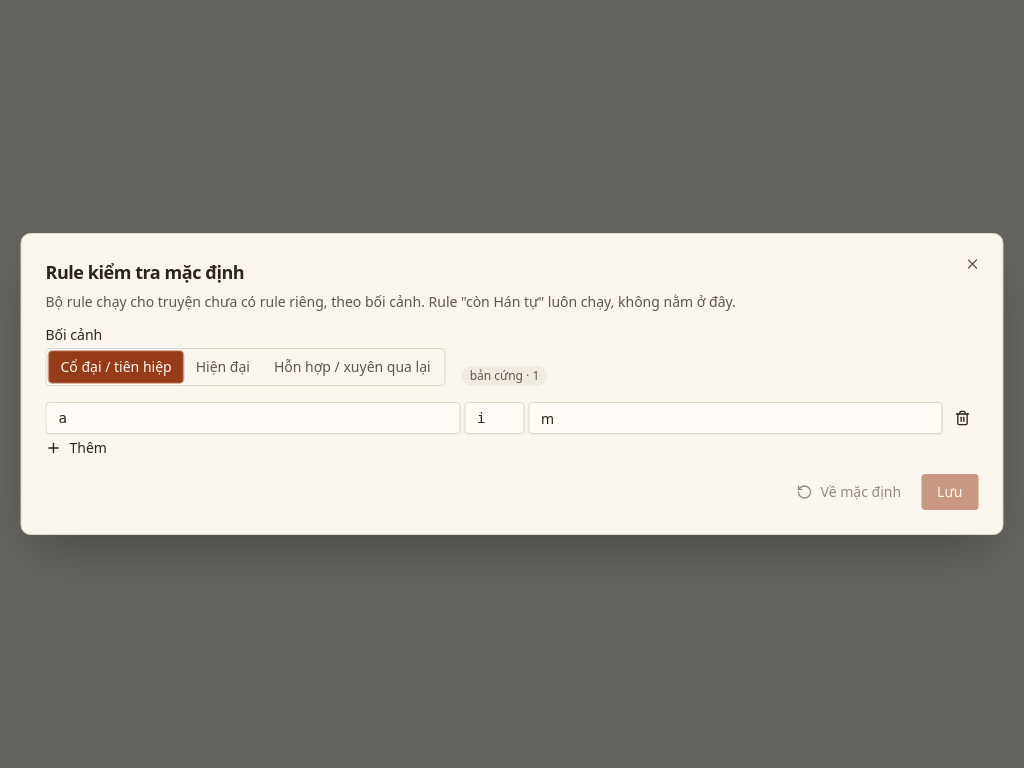
Test: BaseRulesDialog › nạp bộ cổ đại, sửa dòng và Lưu gửi rules đã chuẩn hoá (flags trống → bỏ), bump version
Expected: the button "Lưu" is disabled, [921, 474, 978, 510]
Type "!" into the field named "Mô tả rule 1" at (735, 418), box [528, 402, 942, 434]
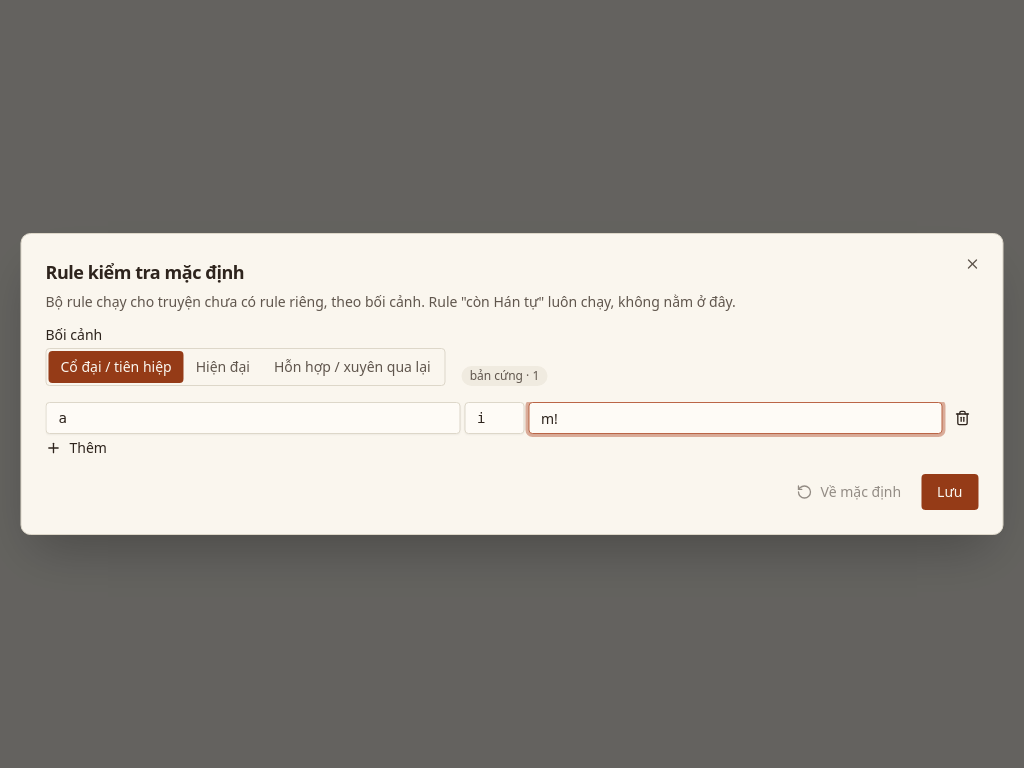
Click the button "Thêm" at (76, 448), box [46, 438, 107, 458]
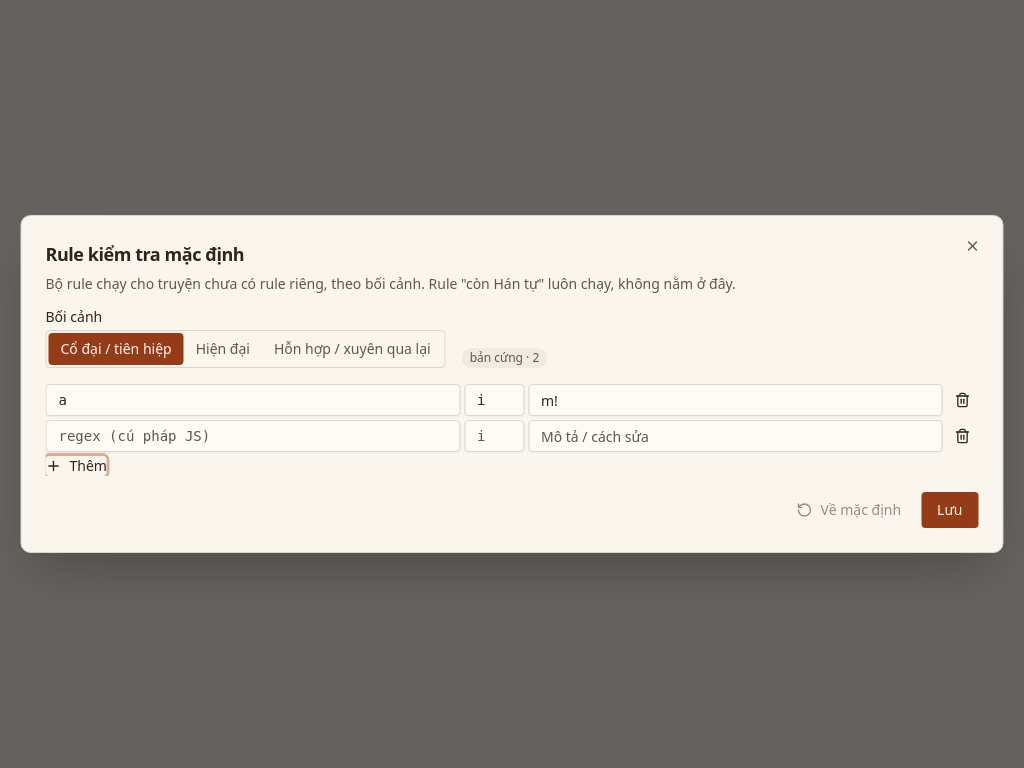
Type "b" into the field named "Regex 2" at (253, 436), box [46, 420, 460, 452]
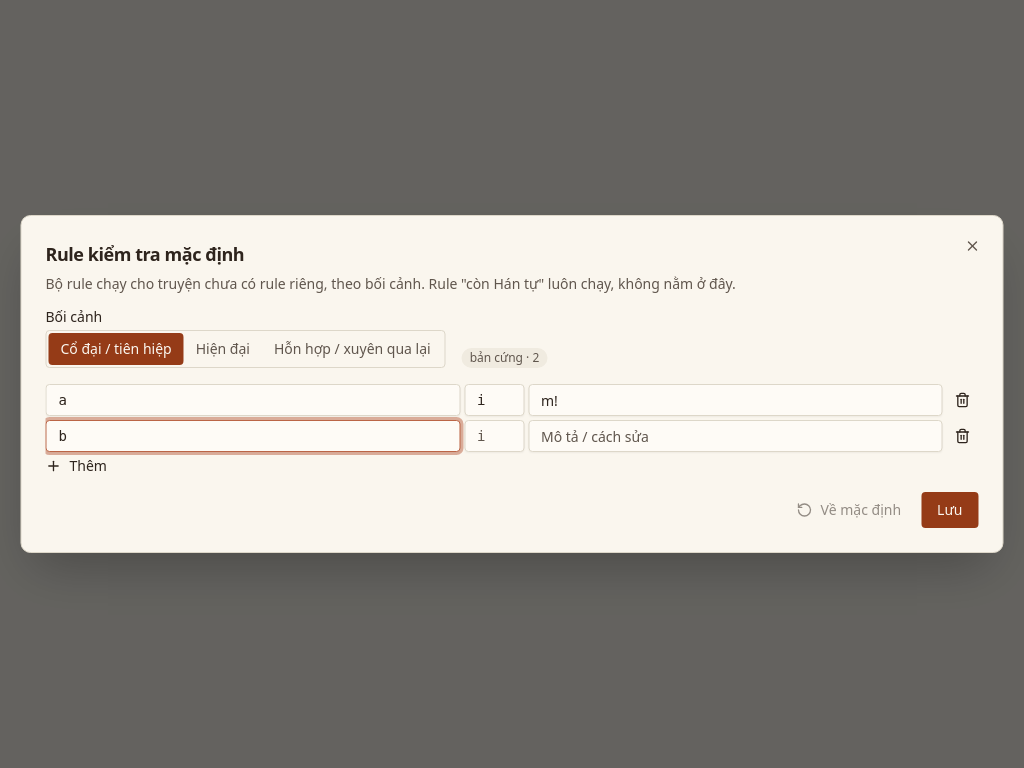
Type "n" into the field named "Mô tả rule 2" at (735, 436), box [528, 420, 942, 452]
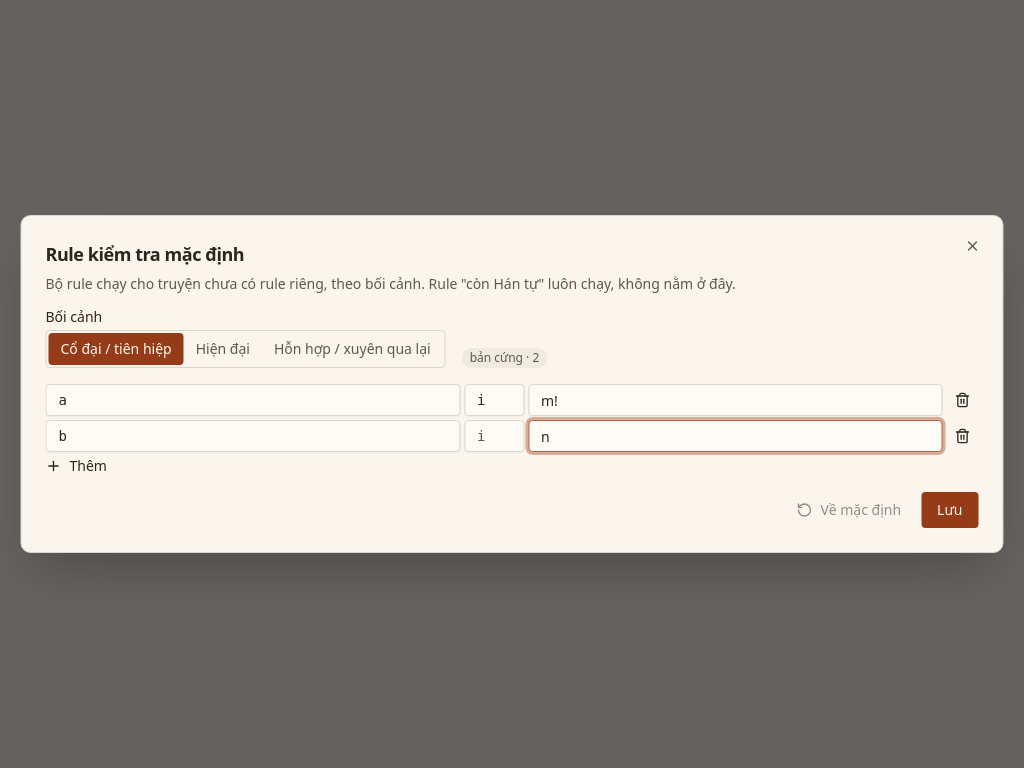
Click the button "Lưu" at (950, 510), box [921, 492, 978, 528]
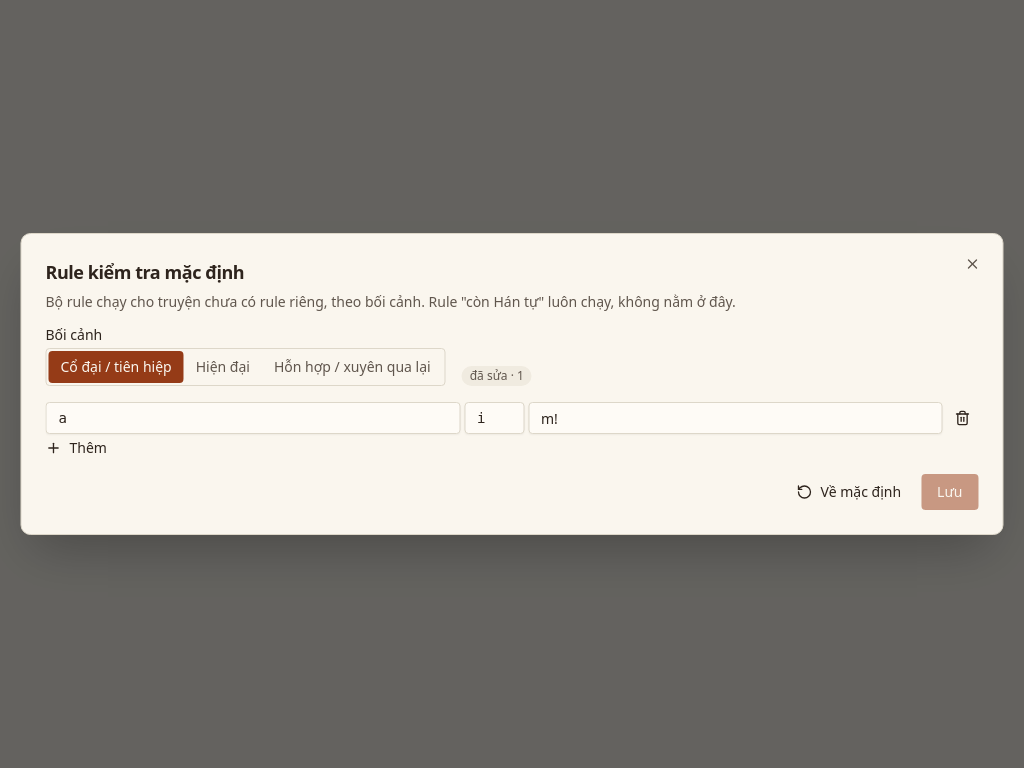
Expected: the text "đã sửa · 1" is shown, [462, 366, 532, 386]
